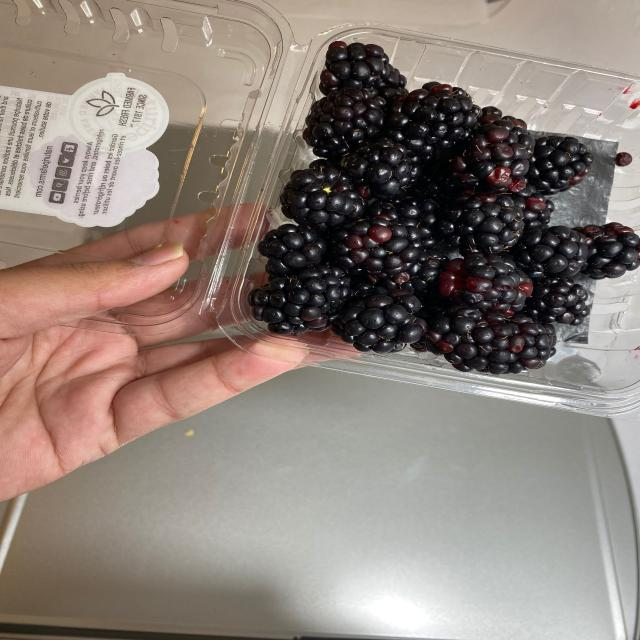blackberries: (284, 30, 597, 382)
